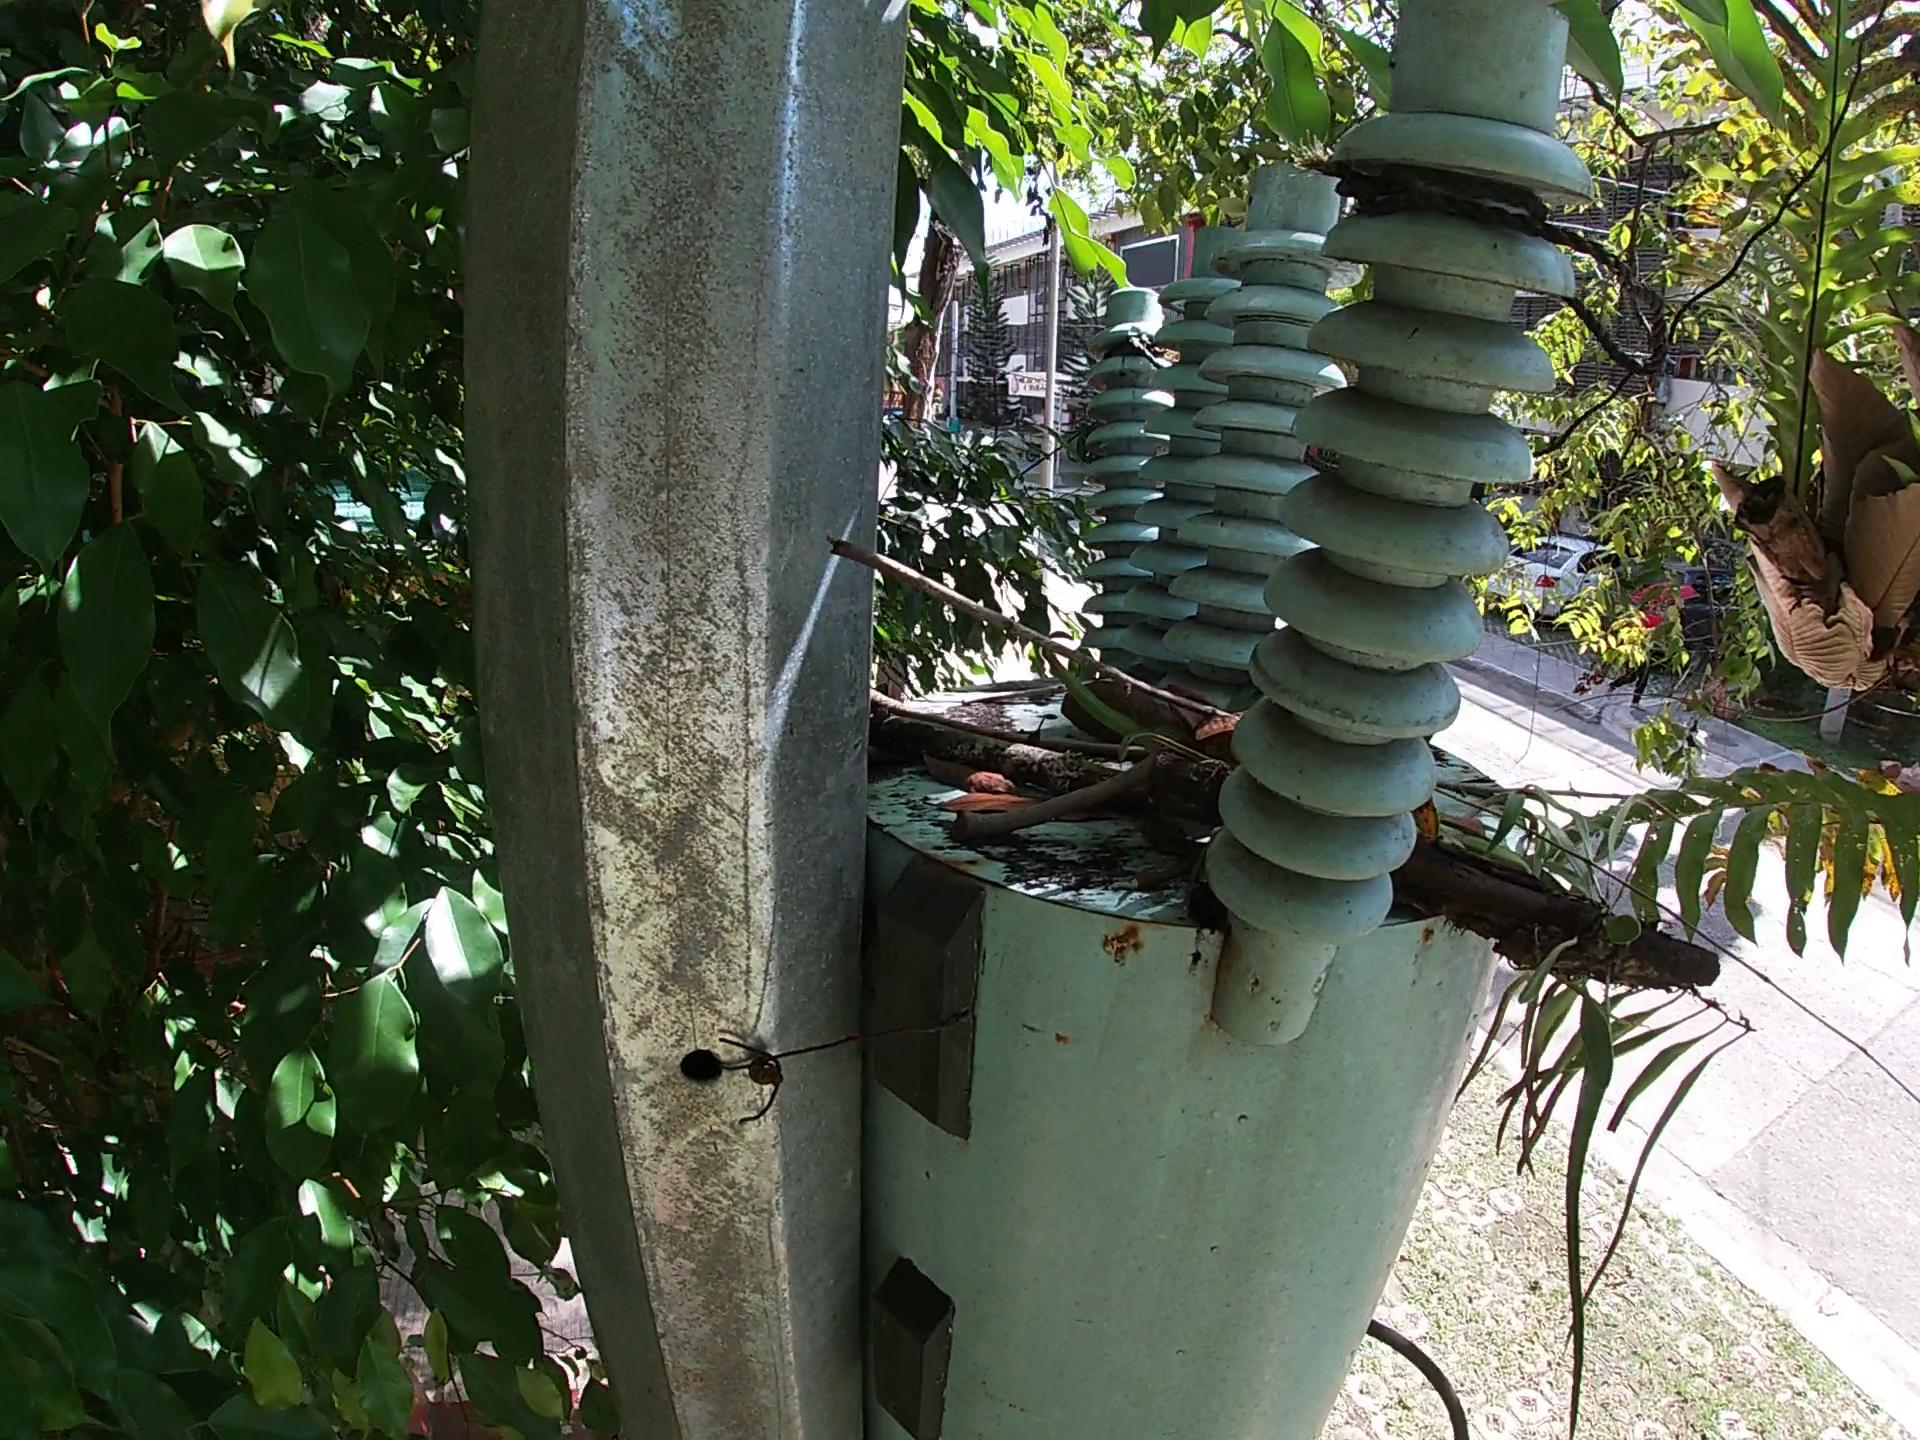branch with leaves: (884, 650, 1808, 1103)
leaf: (1407, 773, 1459, 871), (949, 746, 992, 849)
mahogany fruit: (897, 664, 981, 743)
tree branch: (813, 542, 1920, 877), (906, 669, 1241, 830), (940, 774, 1160, 867)
